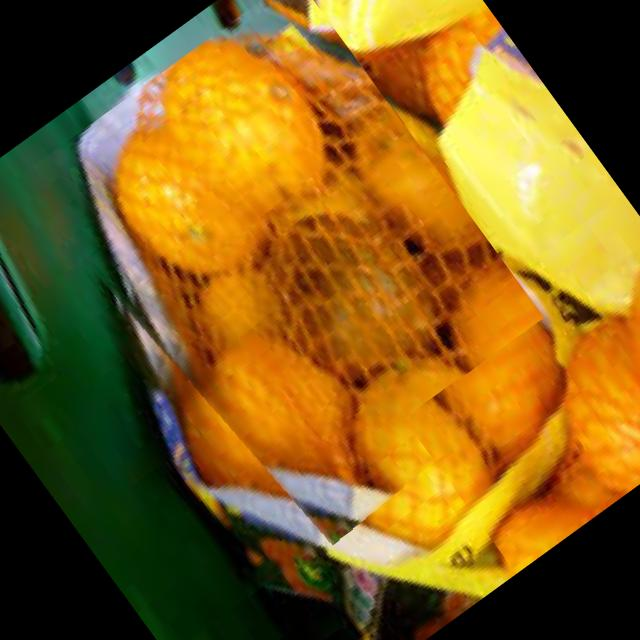Organic: (14, 0, 579, 569), (403, 236, 640, 572)
